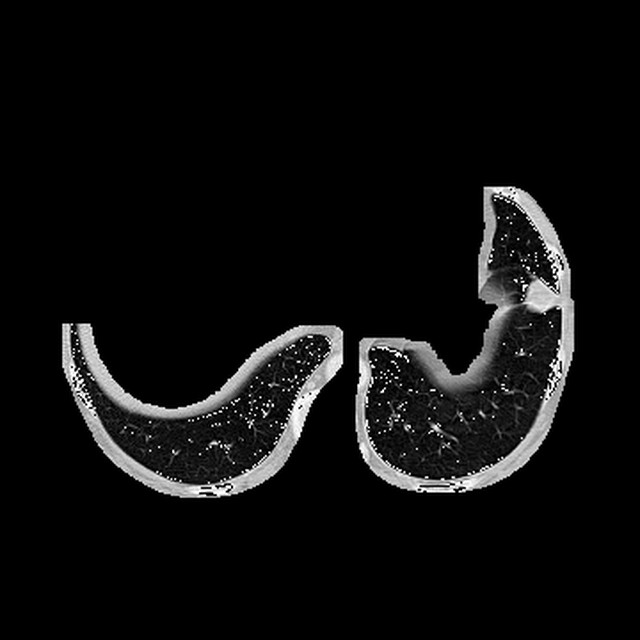PN: (523, 279, 558, 315)
